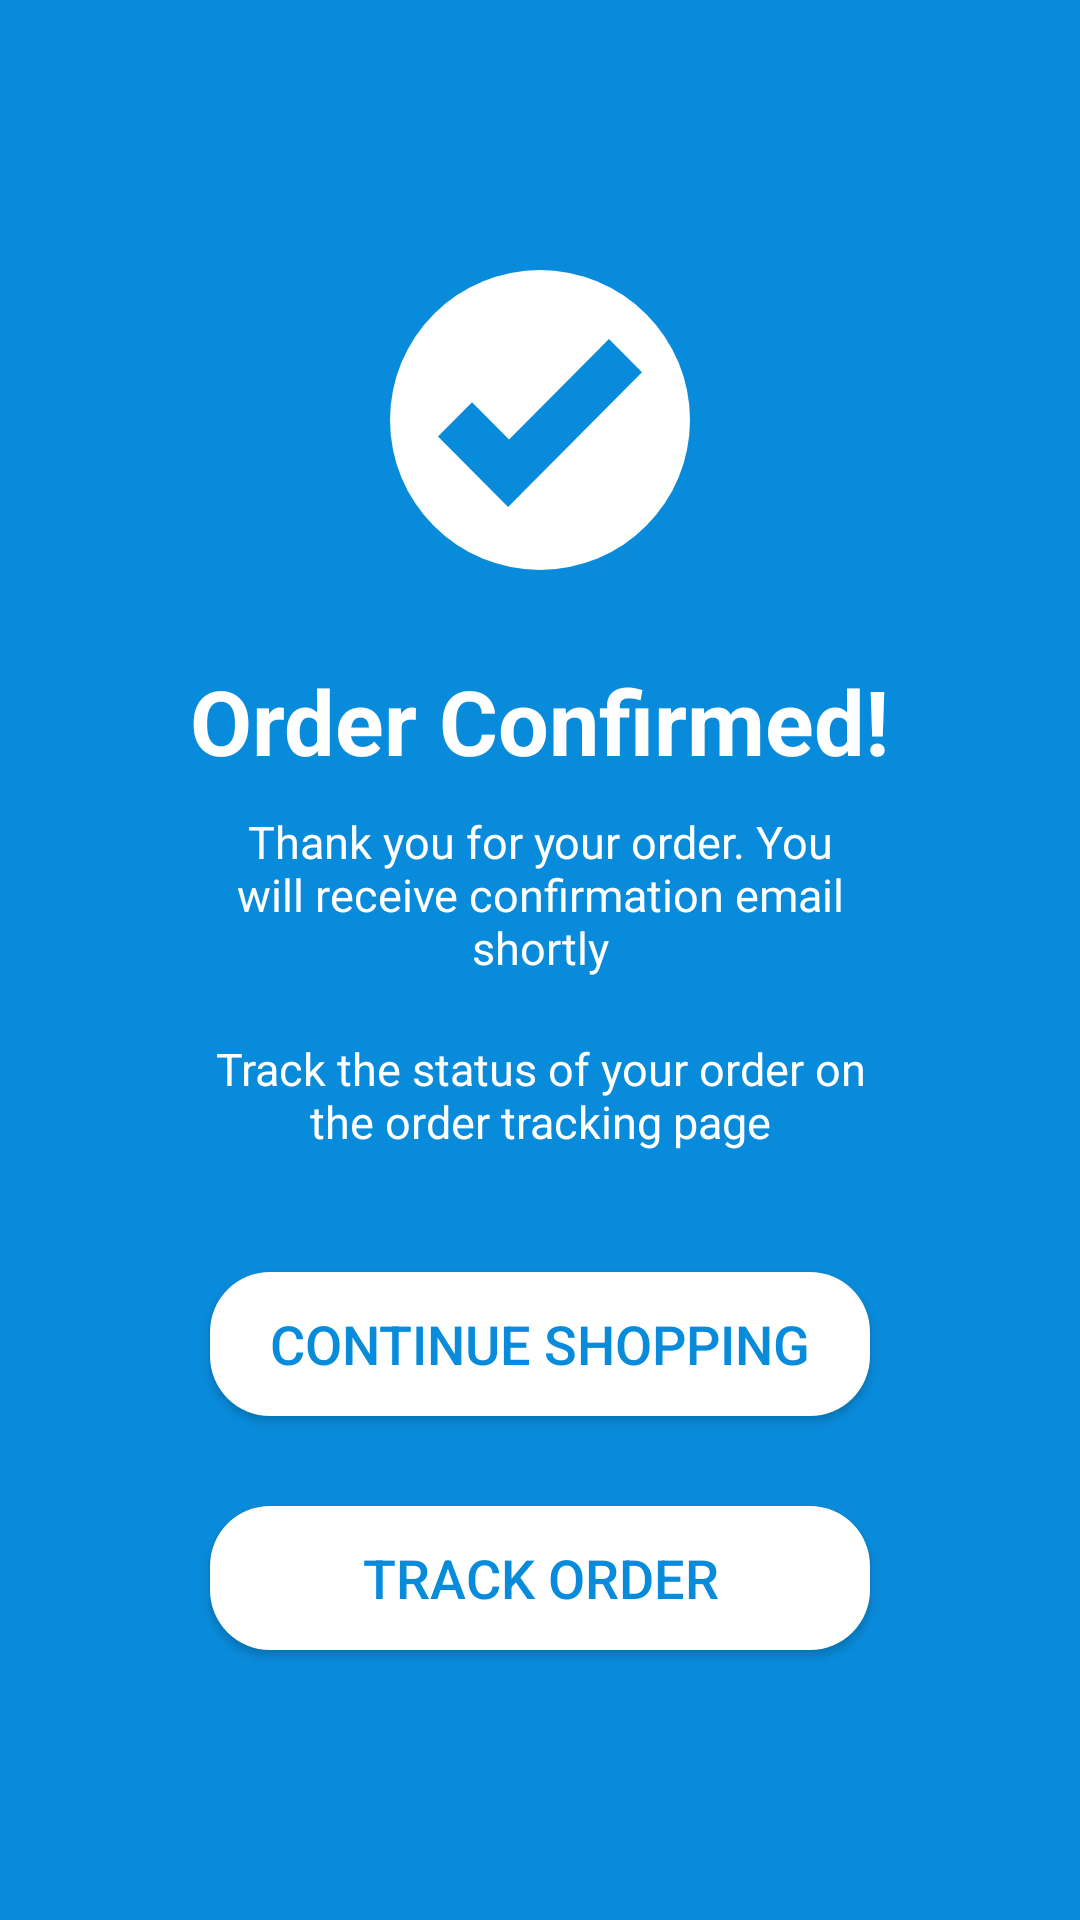

Icons on this 1080px x 1920px Android screen, each with the point to tap as (x,y):
check: (540,420)
